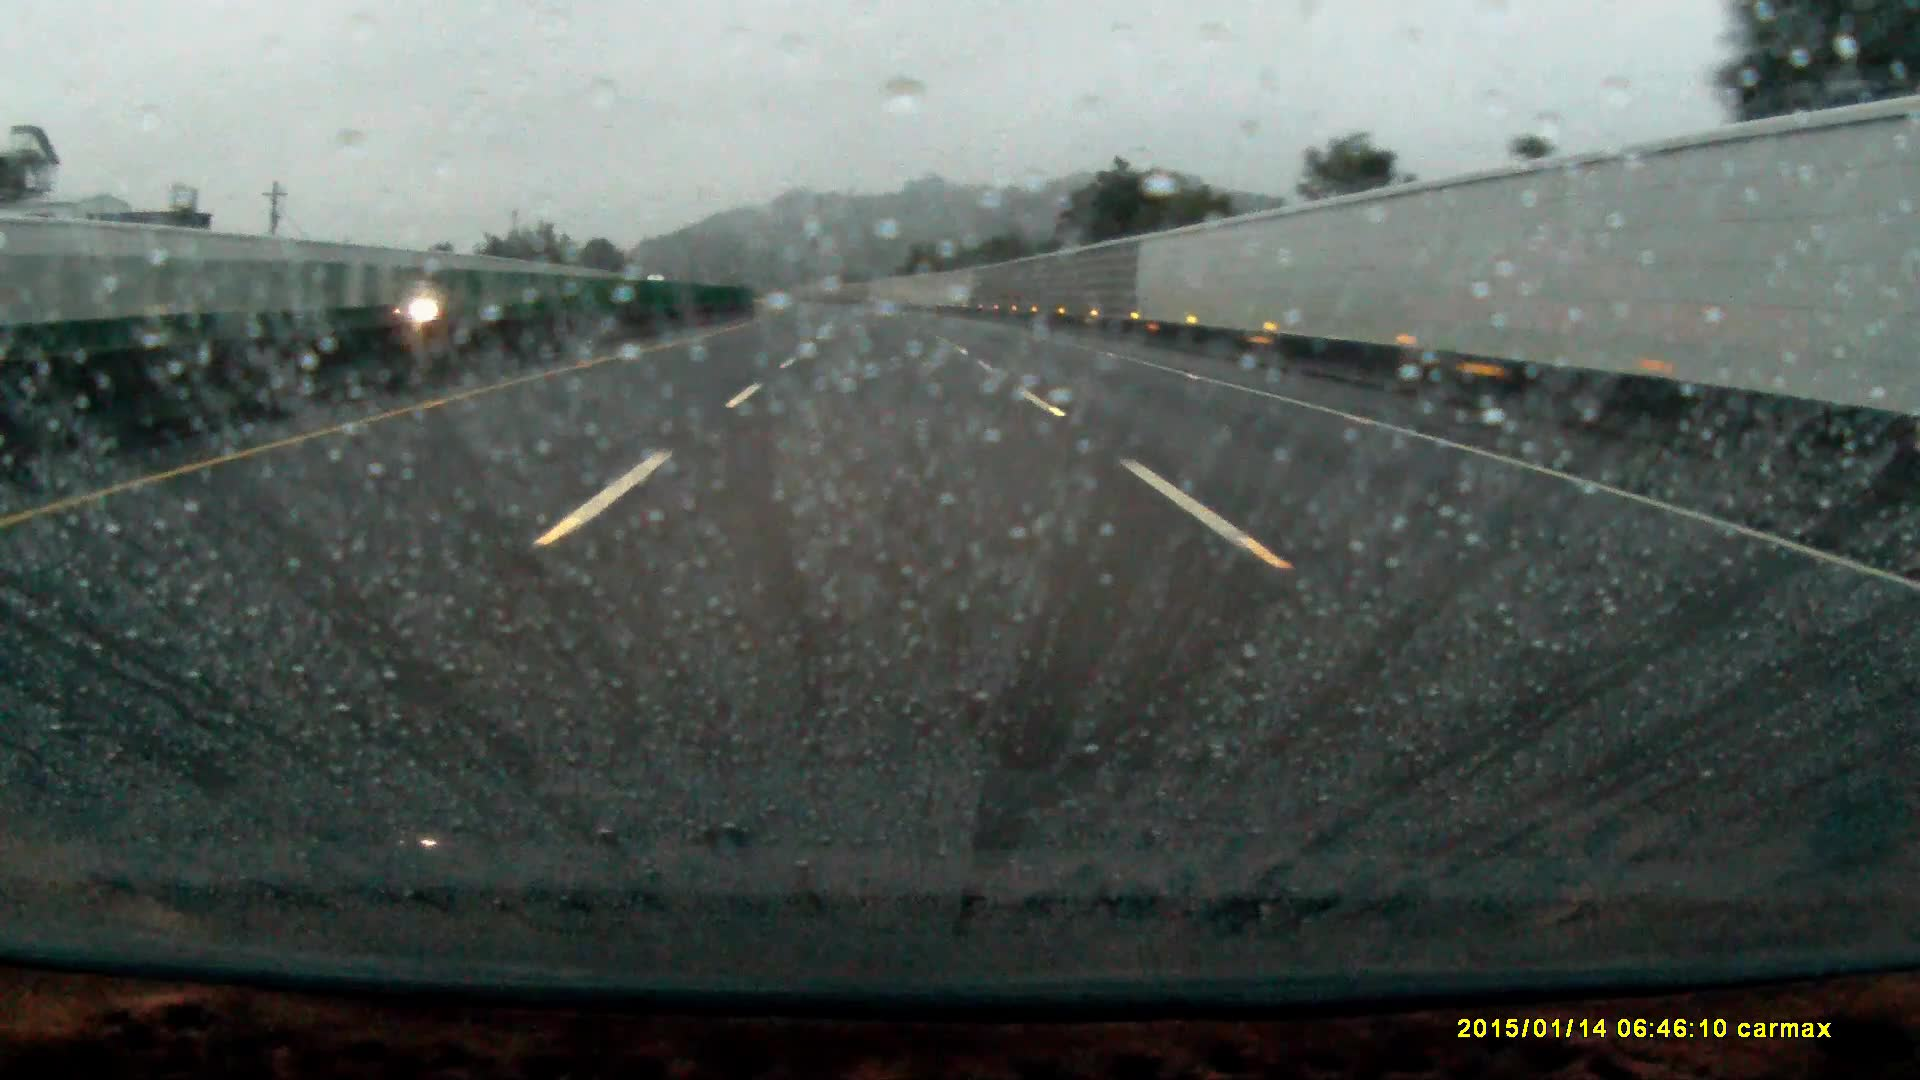vehicle: (396, 293, 456, 320)
